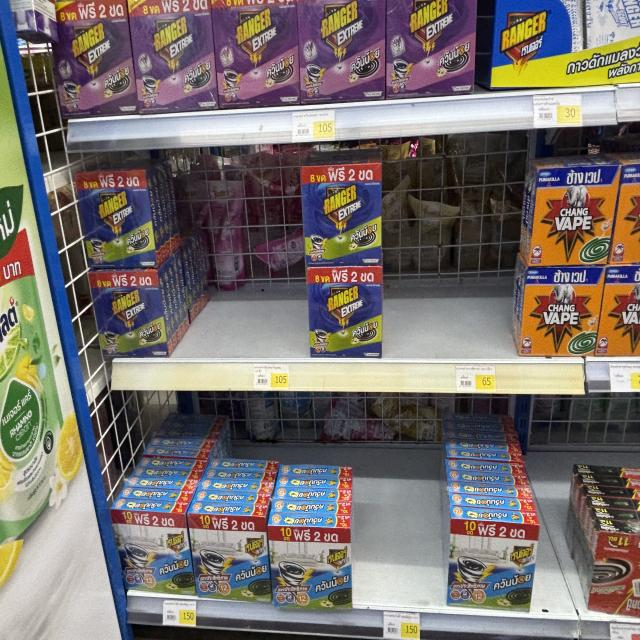empty_shelf: (101, 394, 352, 521), (159, 166, 311, 359), (384, 153, 528, 355), (353, 396, 445, 611), (526, 398, 588, 612), (449, 398, 540, 520)
